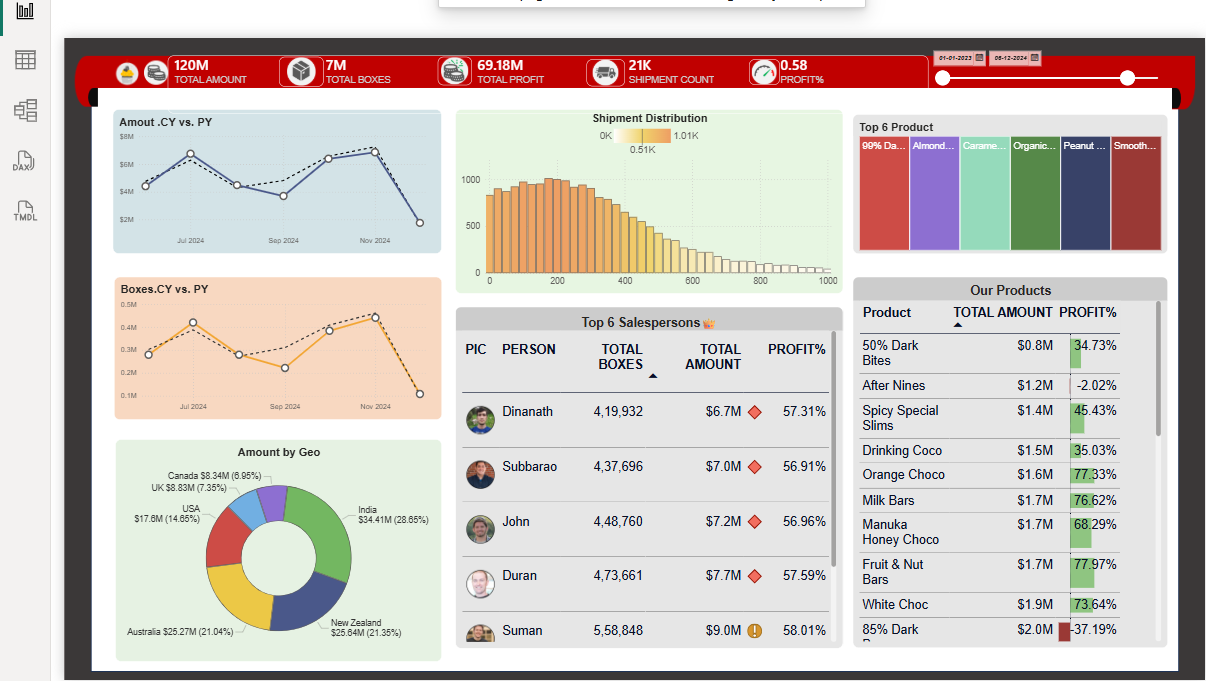

This screenshot's page, from the dashboard's own definition file:
{"tool":"powerbi","page":{"name":"DASHBOARD","canvas":[1920,1080],"ordinal":7},"visuals":[{"type":"lineChart","title":"Amout .CY vs. PY","fields":{"Y":["shipments.last year total amount","shipments.TOTAL AMOUNT"],"Category":["Calendar.Start of Month"]},"box":[82.3,119.4,553.7,242.9],"z":0},{"type":"lineChart","title":"Boxes.CY vs. PY","fields":{"Category":["Calendar.Start of Month"],"Y":["shipments.TOTAL BOXES","shipments.total boxes(last year)"]},"box":[84.4,401.4,551.6,240.8],"z":1000},{"type":"donutChart","title":"Amount by Geo ","fields":{"Category":["locations.Geo"],"Y":["shipments.TOTAL AMOUNT"]},"box":[86.4,675.1,549.6,374.6],"z":2000},{"type":"columnChart","title":"Shipment  Distribution","fields":{"Y":["shipments.SHIPMENT  COUNT"],"Category":["shipments.Boxes (bins)"]},"box":[657.5,120,652.5,310],"z":3000},{"type":"tableEx","title":"Top 6 Salespersons👑","fields":{"Values":["people.Picture","people.FIRST NAME","shipments.TOTAL BOXES","shipments.TOTAL AMOUNT","shipments.PROFIT%"]},"box":[657.5,452.5,652.5,575],"z":4000},{"type":"treemap","title":"Top 6 Product","fields":{"Group":["products.Product"],"Values":["shipments.% Within Top 6"]},"box":[1327.5,127.5,530,235],"z":5000},{"type":"tableEx","title":"Our Products","fields":{"Values":["products.Product","shipments.TOTAL AMOUNT","shipments.PROFIT%"]},"box":[1327.5,402.5,530,625],"z":6000},{"type":"cardVisual","fields":{"Data":["shipments.TOTAL AMOUNT","shipments.TOTAL BOXES","shipments.TOTAL PROFIT","shipments.SHIPMENT  COUNT","shipments.PROFIT%"]},"box":[175,30,1280,97.5],"z":7000},{"type":"slicer","fields":{"Values":["Calendar.cal_date"]},"box":[1455.2,16.5,401.4,76.2],"z":8000},{"type":"image","box":[133.8,37,41.2,41.2],"z":8002},{"type":"image","box":[361.1,32.2,75.6,50],"z":8003},{"type":"image","box":[880,36.7,64.4,45.6],"z":8004},{"type":"image","box":[1153.3,36.7,52.2,43.3],"z":8005},{"type":"image","box":[628.9,31.1,57.8,47.8],"z":8006}]}

Visuals, with their boxes on the page's 1920x1080 design canvas (x1, y1, x2, y2). These are canvas units, not pixel positions in the 1206x681 screenshot, which may show the page scaled, cropped or inside an application window:
"Amout .CY vs. PY" lineChart: 82 119 636 362
"Boxes.CY vs. PY" lineChart: 84 401 636 642
"Amount by Geo " donutChart: 86 675 636 1050
"Shipment  Distribution" columnChart: 658 120 1310 430
"Top 6 Salespersons👑" tableEx: 658 452 1310 1028
"Top 6 Product" treemap: 1328 128 1858 362
"Our Products" tableEx: 1328 402 1858 1028
cardVisual - shipments.TOTAL AMOUNT x shipments.TOTAL BOXES: 175 30 1455 128
slicer - Calendar.cal_date: 1455 16 1857 93
image: 134 37 175 78
image: 361 32 437 82
image: 880 37 944 82
image: 1153 37 1206 80
image: 629 31 687 79
